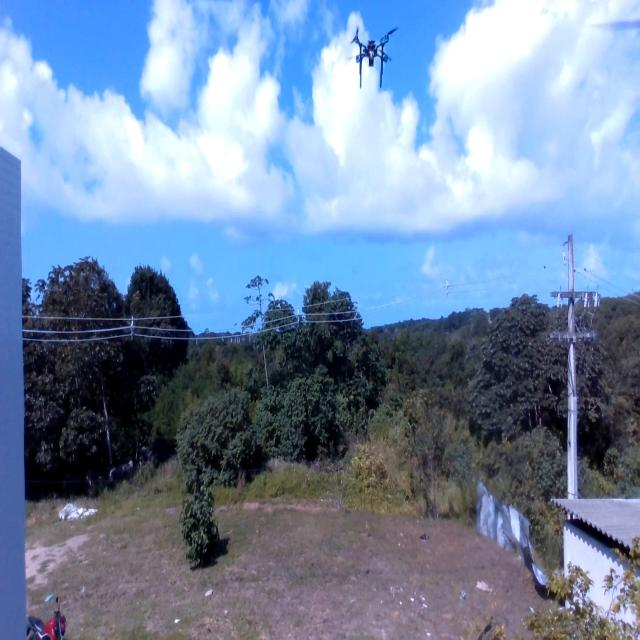-uav-: (340, 14, 405, 99)
